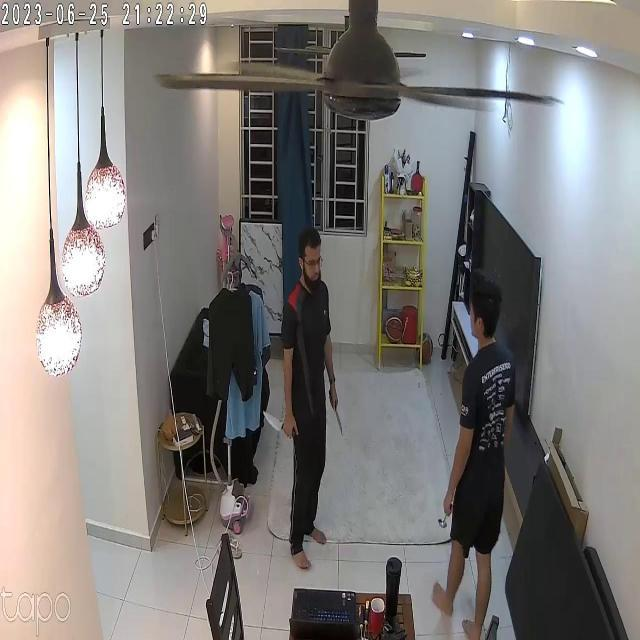Knife: (325, 392, 359, 442), (263, 405, 299, 446)
